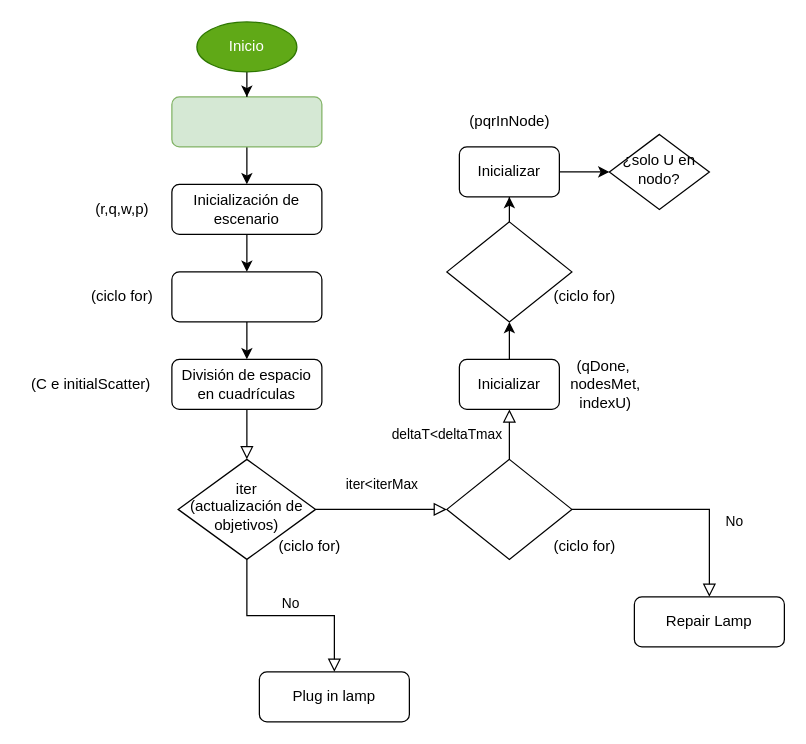
Image size: 806x744. Some labels were removed from this diagram. Each missing label, with the box of its shape:
Asignación de r a q (salida RperQ): (171, 271, 322, 322)
Calcular Parámetros Energéticos: (171, 96, 322, 147)
deltaT (movimiento diferencial): (446, 458, 572, 559)
nodoActual (recorrido de nodos): (446, 221, 572, 322)
